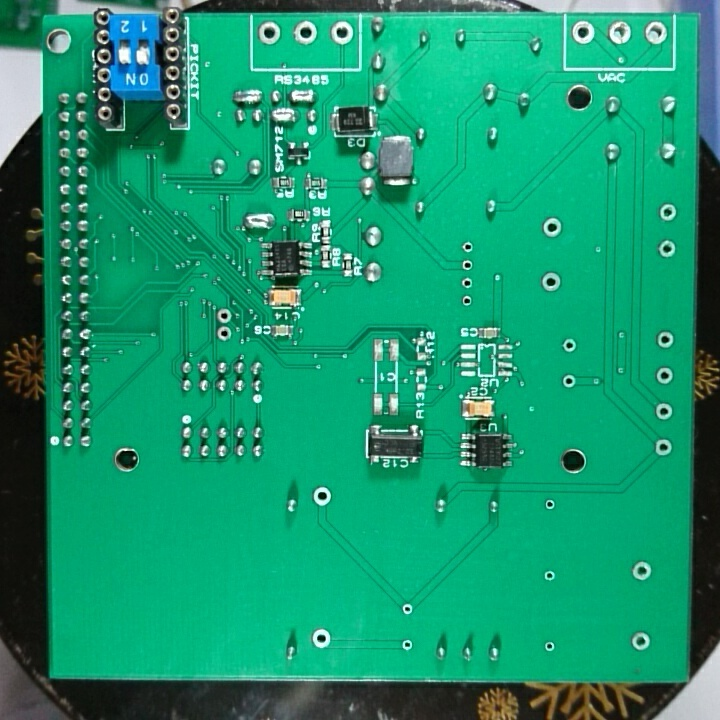F: (328, 19, 356, 48), (605, 19, 634, 46), (290, 20, 320, 46), (571, 18, 597, 48), (256, 19, 284, 46), (539, 270, 565, 296), (643, 20, 668, 47), (628, 558, 653, 583), (310, 627, 335, 652), (540, 214, 562, 241), (629, 629, 653, 653), (655, 237, 678, 261), (654, 328, 677, 352), (311, 484, 334, 508), (654, 362, 675, 388), (657, 201, 679, 224), (652, 436, 674, 458), (654, 400, 674, 422), (214, 323, 234, 344), (559, 372, 579, 391), (559, 335, 578, 355), (215, 305, 233, 326), (459, 256, 476, 275), (459, 292, 476, 310), (459, 273, 475, 292), (398, 636, 414, 655), (459, 238, 475, 256), (542, 496, 557, 514), (399, 600, 414, 618), (541, 639, 558, 654), (542, 568, 557, 584)
P: (285, 86, 321, 106), (241, 211, 277, 230), (268, 106, 302, 126), (231, 87, 265, 104)
